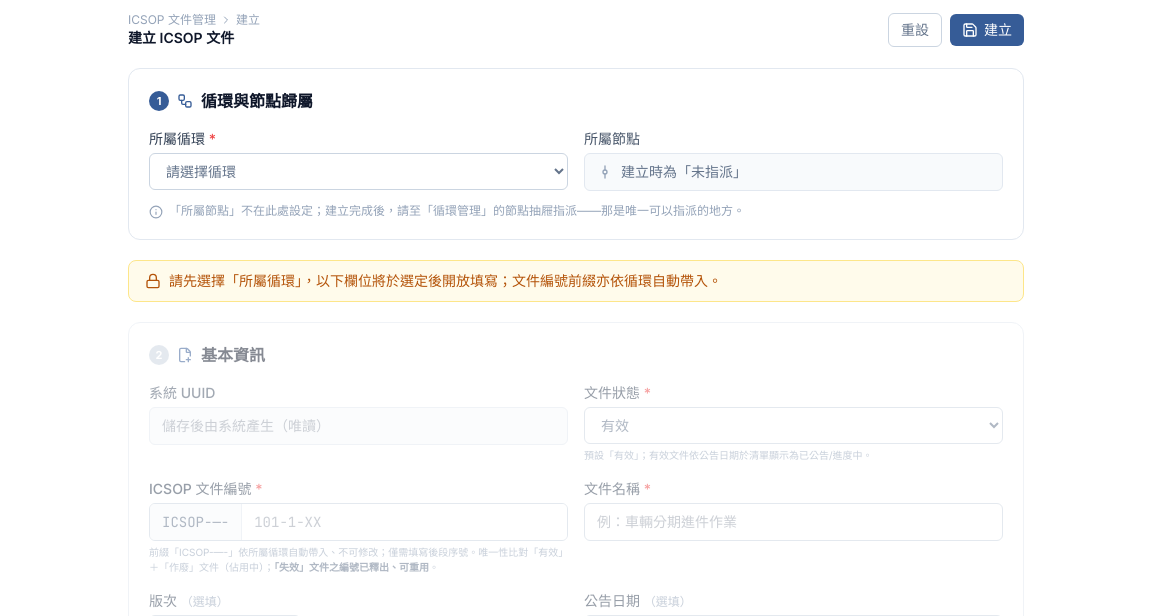
Scenario: DocumentCreatePage — F010 建立文件（移植 prototype 14） › 未選循環顯示 gate 提示；選定後消失
expect the text "請先選擇「所屬循環」，以下欄位將於選定後開放填寫；文件編號前綴亦依循環自動帶入。" is shown: met, box [128,260,1024,302]
Select "銷售及收款循環" in the dropdown named "所屬循環": (358, 172) [149,153,568,190]
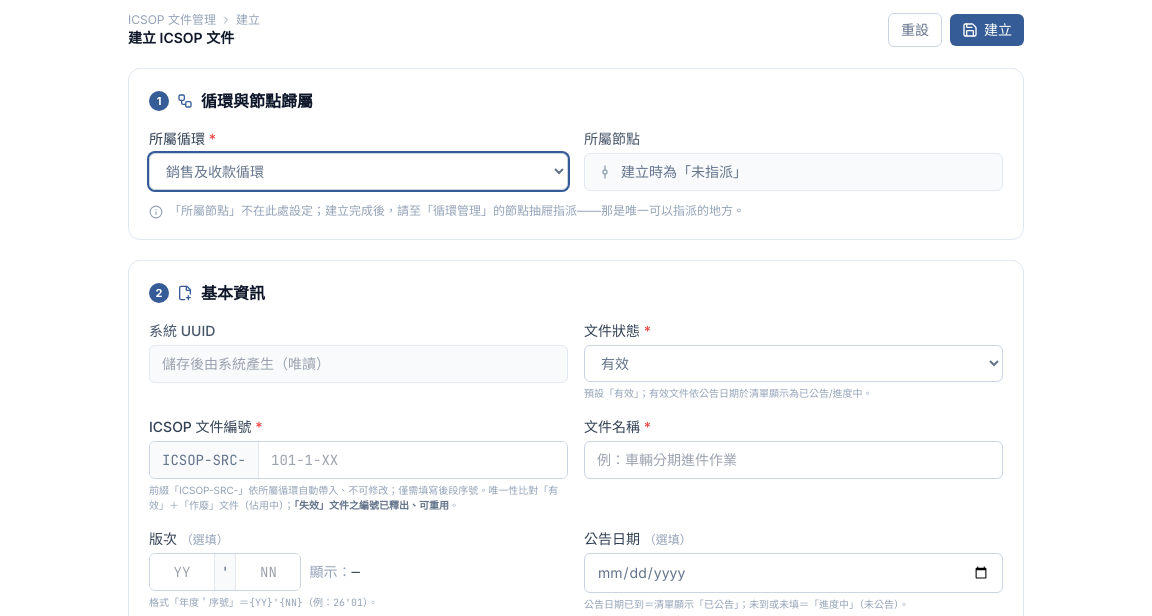
expect the text "請先選擇「所屬循環」" is gone: met
